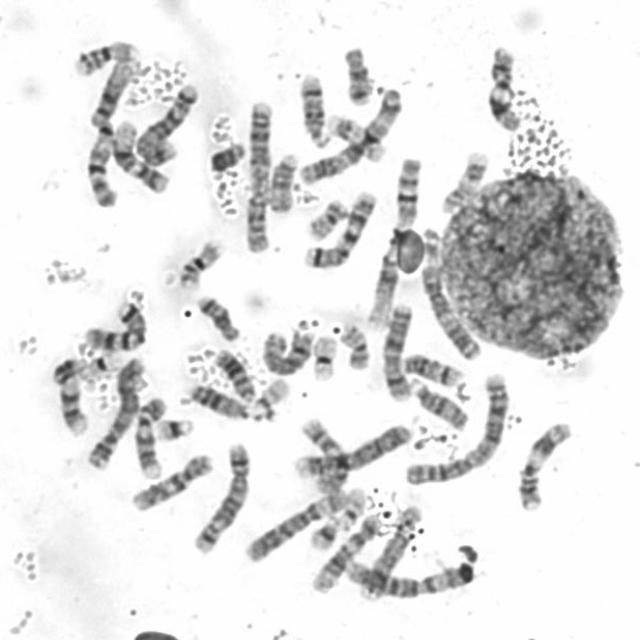A1: (364, 155, 424, 343), (88, 56, 147, 214)
A2: (401, 369, 512, 488), (240, 95, 274, 256)
A3: (295, 86, 404, 186), (418, 263, 484, 361)
B4: (83, 354, 148, 471), (289, 419, 414, 479)
B5: (188, 440, 250, 554), (131, 79, 201, 167)
C10: (126, 449, 214, 514), (298, 414, 351, 497)
C11: (512, 418, 574, 514), (484, 43, 522, 132)
C12: (308, 511, 383, 595), (109, 116, 171, 194)
C6: (241, 485, 350, 565), (342, 554, 475, 600)
C7: (299, 188, 378, 271), (79, 298, 149, 354)
C8: (355, 500, 423, 600), (257, 329, 317, 378)
C9: (130, 392, 169, 480), (50, 357, 89, 437)
D13: (211, 344, 256, 404), (185, 380, 248, 421)
D14: (296, 68, 332, 151), (398, 349, 465, 388)
D15: (406, 373, 469, 432), (264, 150, 300, 216)
E16: (69, 36, 142, 78), (174, 240, 226, 290)
E17: (437, 148, 490, 214), (323, 110, 386, 165)
E18: (192, 292, 241, 344), (340, 43, 374, 107)
F19: (308, 333, 339, 383), (81, 348, 122, 384)
F20: (303, 194, 348, 242), (340, 319, 370, 371)
G21: (306, 512, 342, 552), (152, 414, 194, 442)
G22: (334, 484, 368, 531), (250, 375, 292, 411)
X: (378, 300, 415, 402)
Y: (206, 138, 246, 175)
